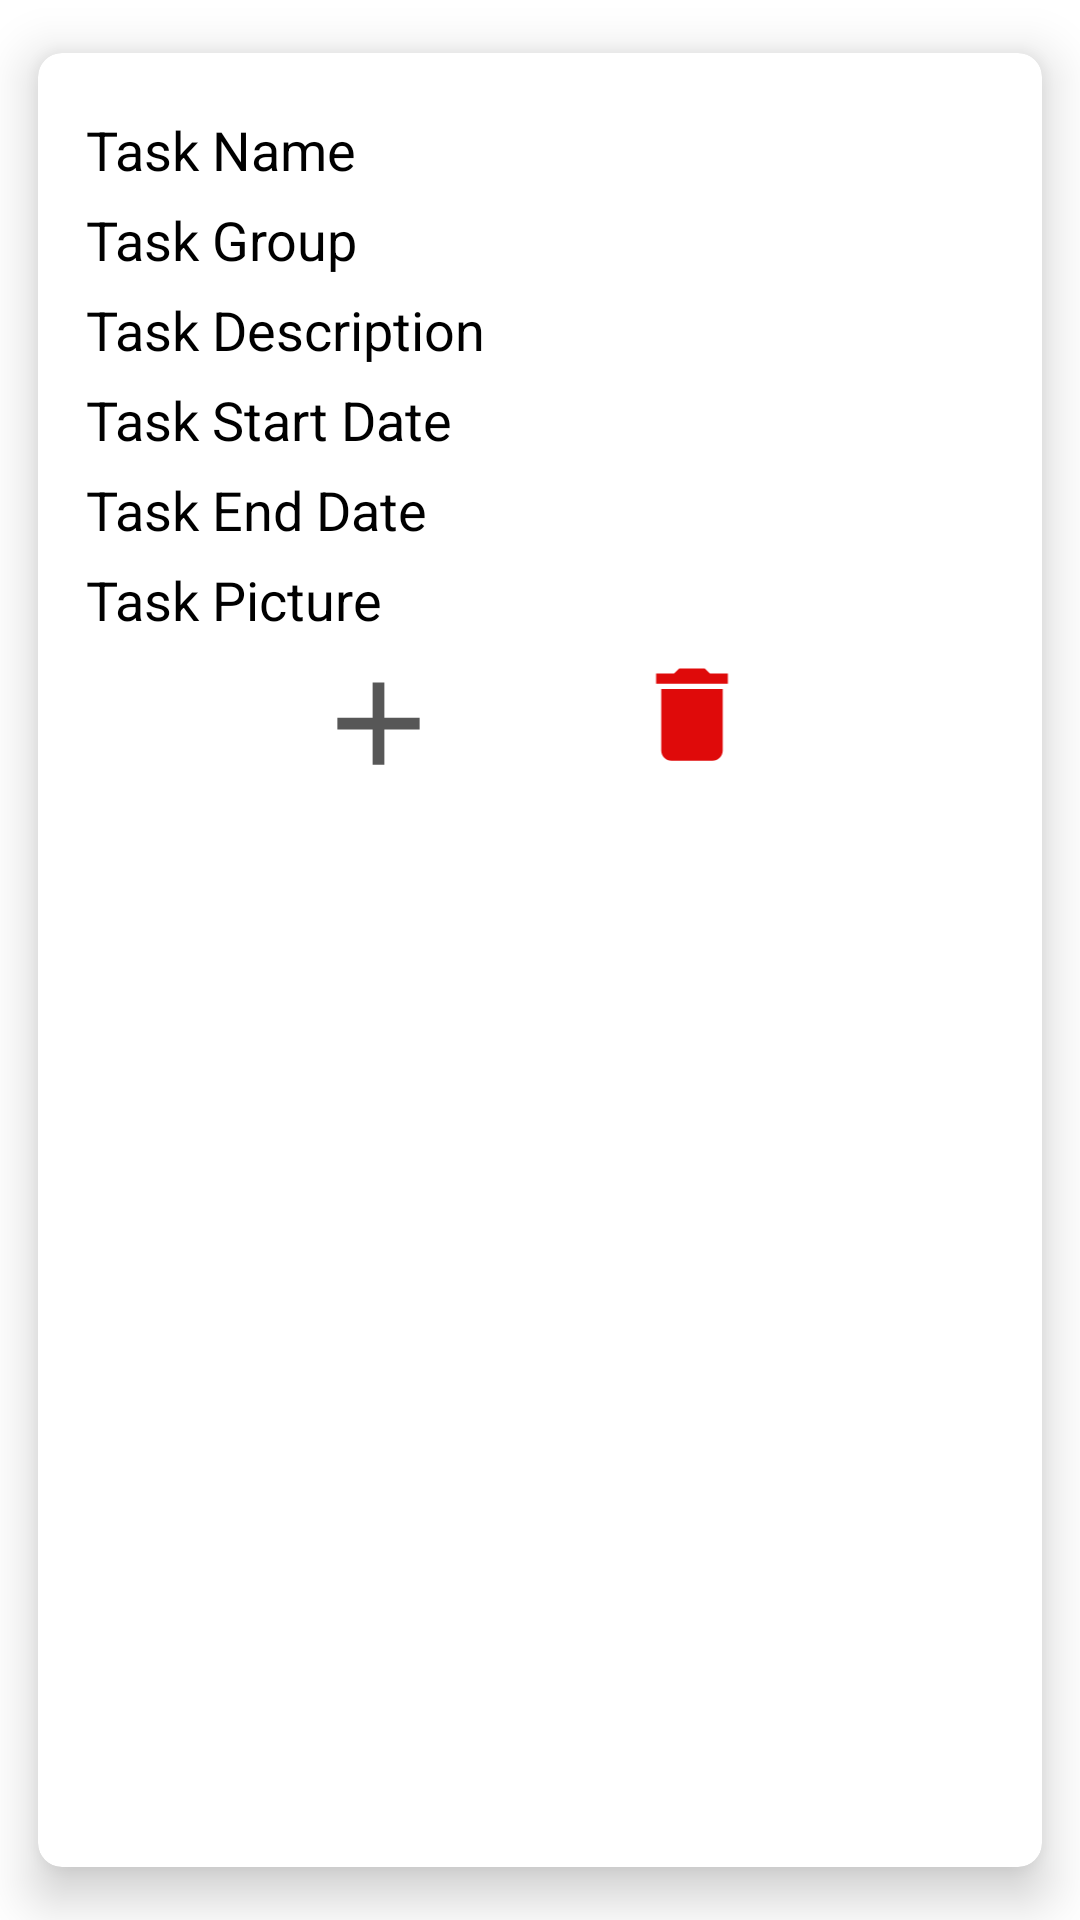

Icon bounding boxes for this 1080x1920 phone screenshot, format BBox(x1, y1, x2, y2):
add group: BBox(337, 682, 420, 765)
trash: BBox(655, 668, 729, 761)
